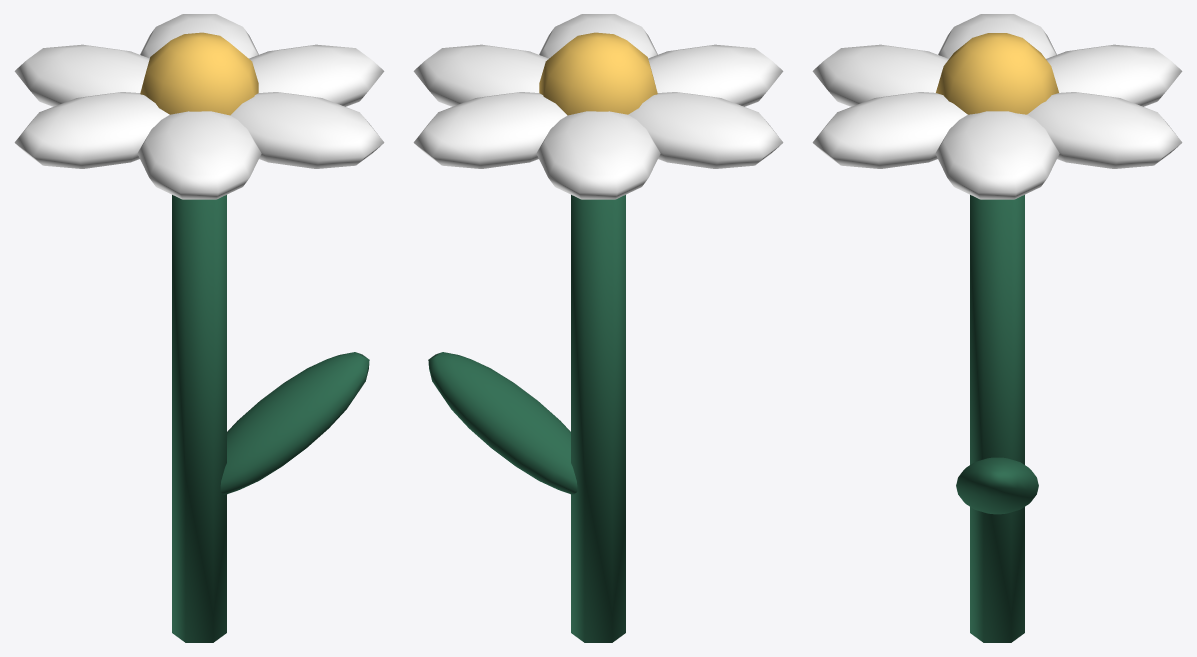
Rendered from flower.glb.
3 views of the same model, side by side, from view 1: azimuth 30°, elevation 25°; view 2: azimuth 150°, elevation 25°; view 3: azimuth 270°, elevation 25° (orthographic).
Visible parts, largest first — view 1: Stem, Leaf, Petal4, Petal5, Petal3, Center, Petal2, Petal0, Petal1; view 2: Stem, Leaf, Petal2, Petal1, Petal3, Center, Petal4, Petal0, Petal5; view 3: Stem, Petal0, Petal1, Petal5, Center, Petal2, Petal4, Leaf, Petal3.
Boxes of the visible parts, bbox=[...] form: Stem: bbox=[172, 195, 226, 642]; Leaf: bbox=[220, 352, 369, 494]; Petal4: bbox=[137, 111, 261, 199]; Petal5: bbox=[230, 92, 384, 168]; Petal3: bbox=[14, 92, 169, 168]; Center: bbox=[140, 32, 258, 115]; Petal2: bbox=[14, 44, 149, 106]; Petal0: bbox=[249, 44, 384, 106]; Petal1: bbox=[140, 14, 258, 58]; Stem: bbox=[571, 195, 625, 642]; Leaf: bbox=[428, 352, 577, 494]; Petal2: bbox=[536, 111, 660, 199]; Petal1: bbox=[413, 92, 567, 168]; Petal3: bbox=[628, 92, 783, 168]; Center: bbox=[539, 32, 657, 115]; Petal4: bbox=[648, 44, 783, 106]; Petal0: bbox=[413, 44, 548, 106]; Petal5: bbox=[539, 14, 657, 58]; Stem: bbox=[970, 195, 1024, 642]; Petal0: bbox=[935, 111, 1059, 199]; Petal1: bbox=[1027, 92, 1182, 168]; Petal5: bbox=[812, 92, 967, 168]; Center: bbox=[936, 33, 1058, 114]; Petal2: bbox=[1046, 44, 1182, 106]; Petal4: bbox=[812, 44, 948, 106]; Leaf: bbox=[956, 457, 1038, 514]; Petal3: bbox=[938, 14, 1056, 58].
Size of the model in its own units: 0.2931 by 0.475 by 0.2678.
